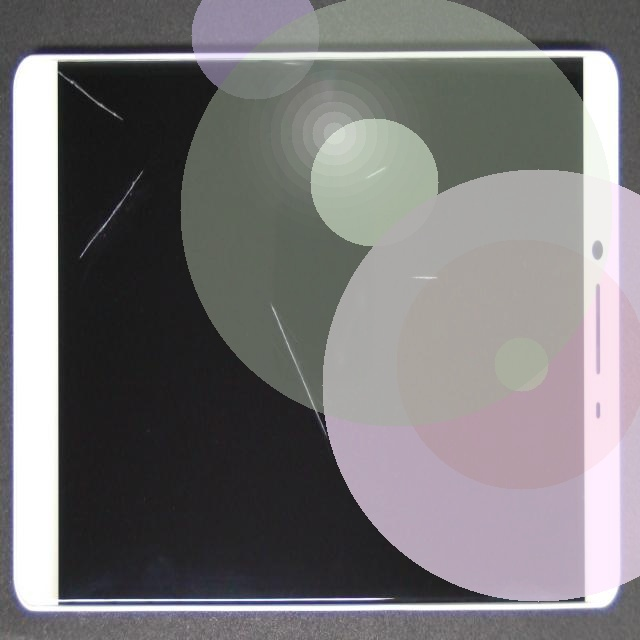scratch: (96, 78, 417, 536), (200, 118, 615, 423)
